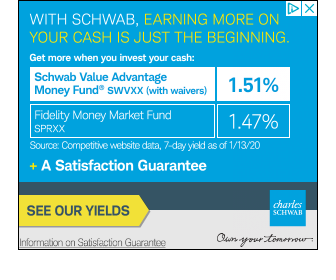fake_button: (15, 189, 155, 233), (279, 0, 328, 25)
